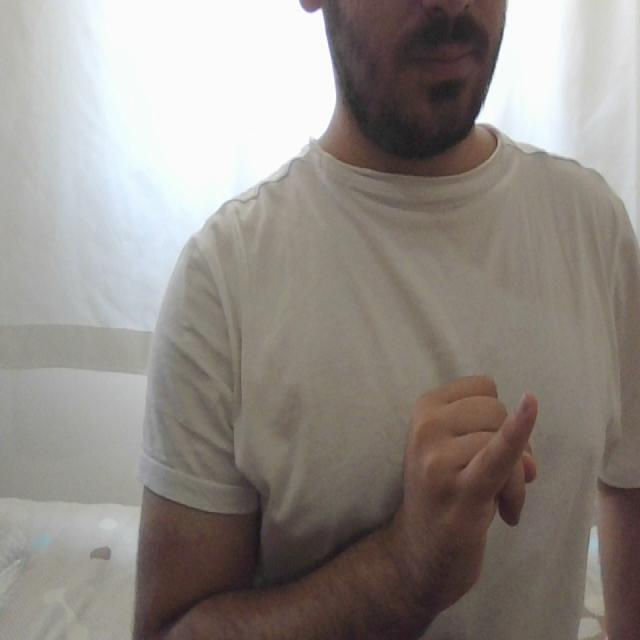kotu: (394, 365, 544, 542)
